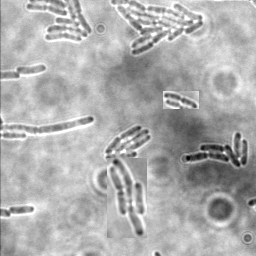Dividing: (1, 114, 56, 133), (8, 204, 35, 215), (86, 116, 114, 126)
Microcolony: (57, 44, 117, 178), (109, 1, 205, 56), (25, 1, 94, 44), (184, 130, 248, 167), (117, 124, 150, 160), (16, 63, 48, 74)
Rod: (75, 110, 88, 131)
